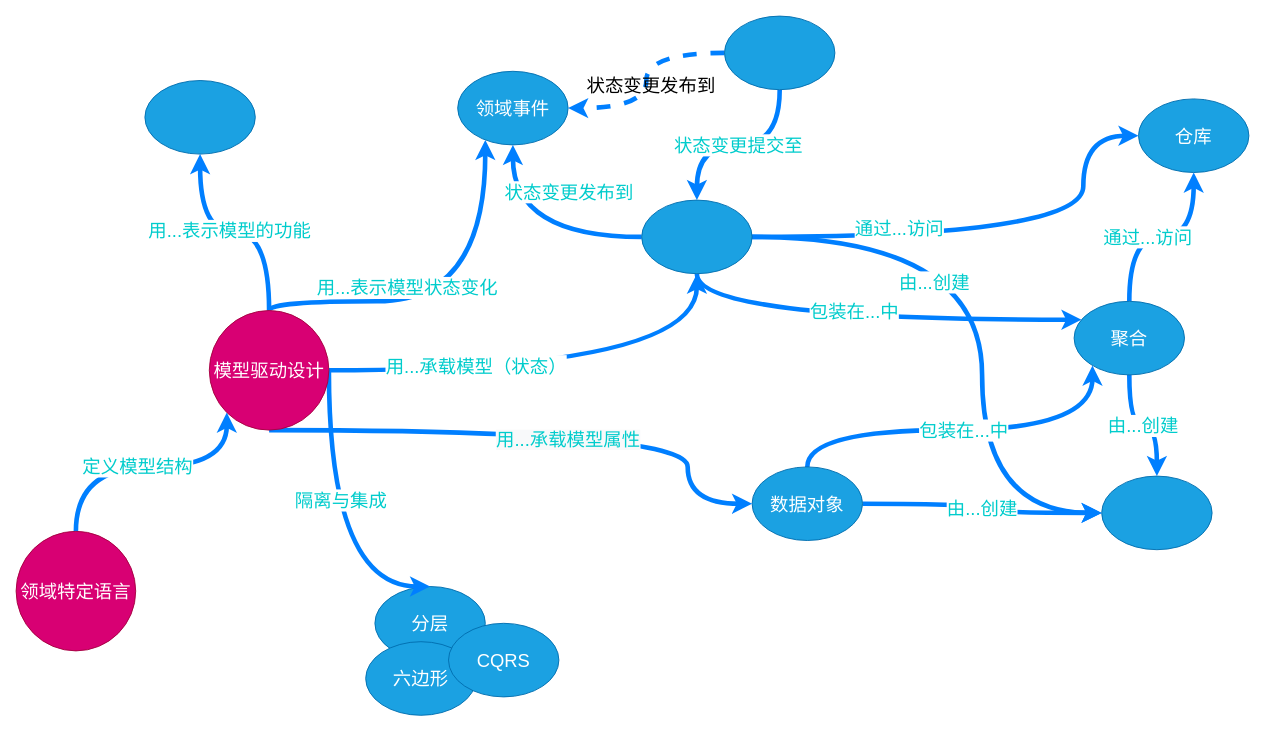
This 1265x731 diagram has some shape labels left out. Each missing label, with the box of its shape:
实体: (641, 199, 752, 274)
工作单元: (724, 15, 835, 90)
工厂: (1101, 475, 1212, 550)
服务: (144, 80, 255, 154)
